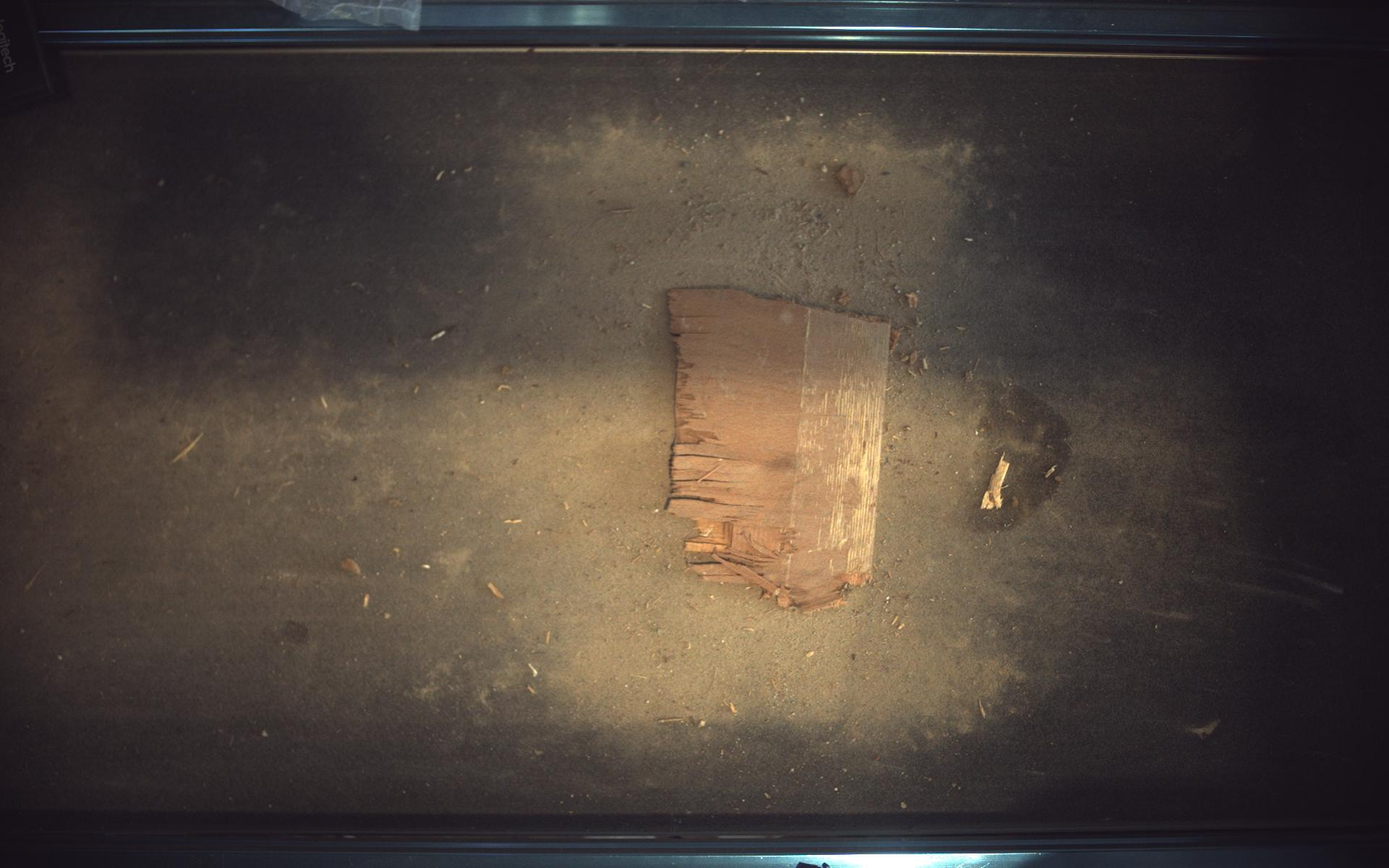wood: (667, 289, 892, 611)
